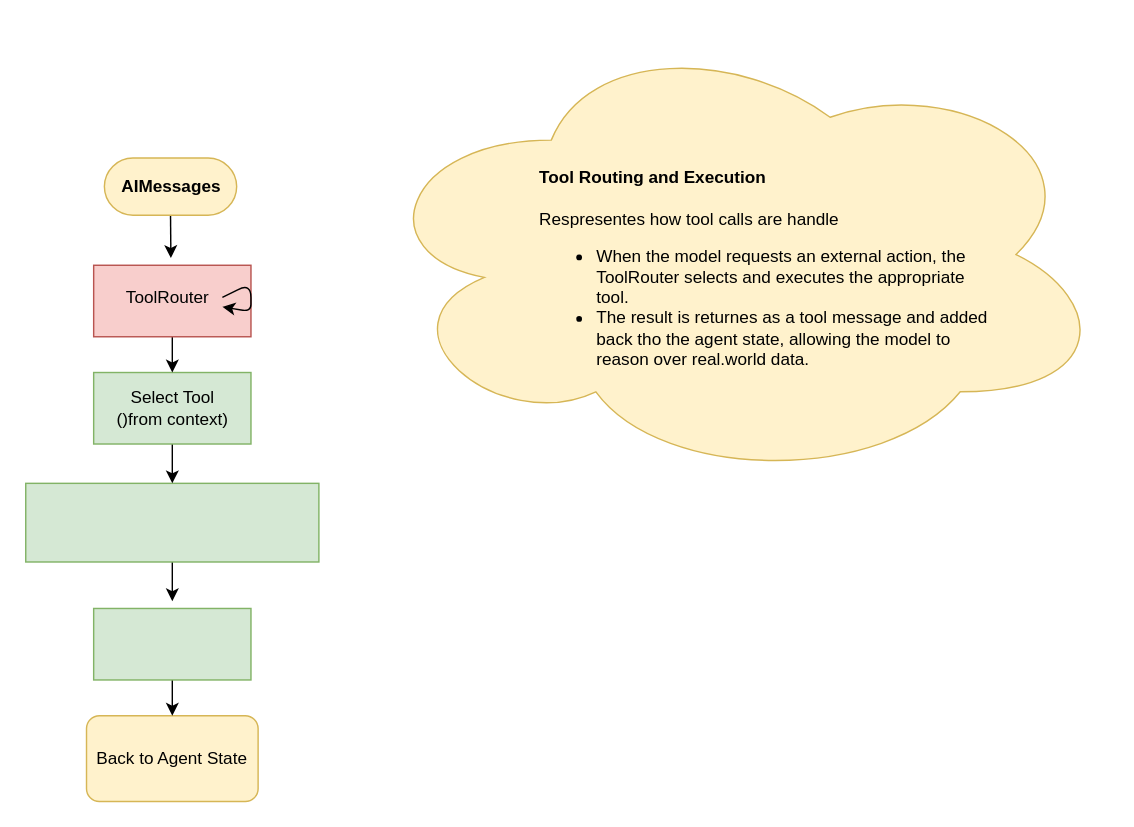
Some shapes in this 1134 by 827 pixel diagram are drawn without their labels. Each missing label, with the centre of its shape:
Exucute tool (explore_db, query_postgres, etc.): the point at 171,522
ToolMessage (result): the point at 171,643
